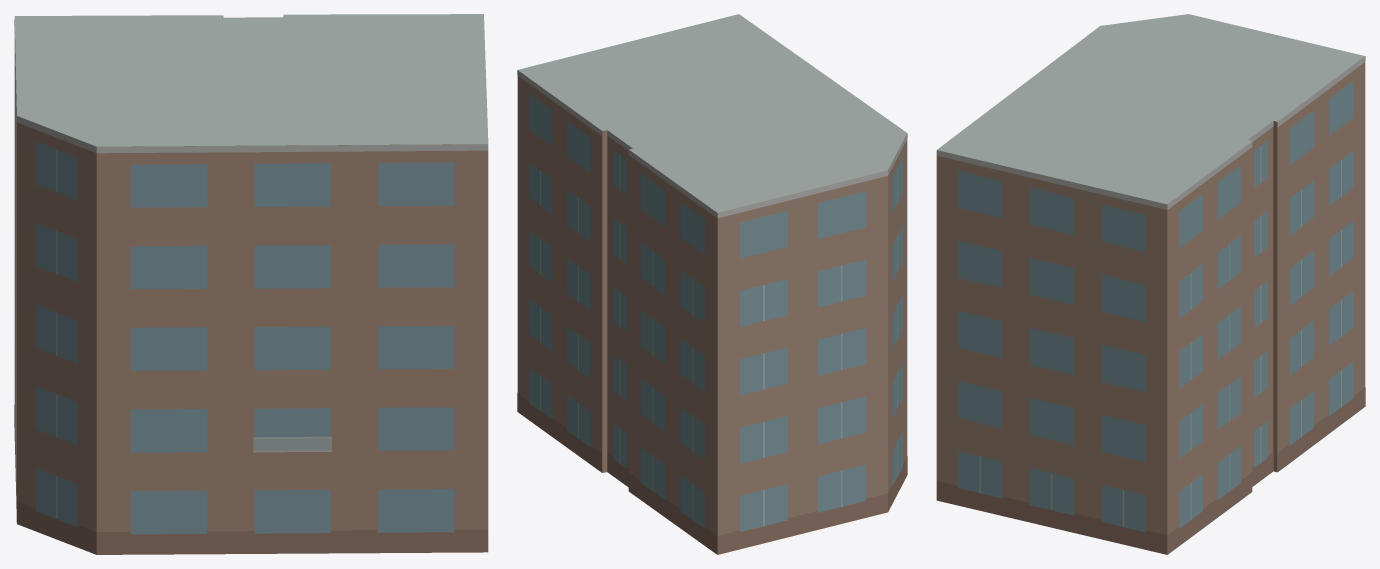
File: survey-upis-32886240.glb
The picture shows the model from 3 angles, left to right: view 1: azimuth 30°, elevation 25°; view 2: azimuth 150°, elevation 25°; view 3: azimuth 270°, elevation 25°; orthographic projection. The views are drawn at different scales.
Visible parts, largest first — view 1: survey-upis-32886240.tmp; view 2: survey-upis-32886240.tmp; view 3: survey-upis-32886240.tmp.
Boxes of the visible parts, box(x1,y1,x2,y2) form: survey-upis-32886240.tmp: box(14, 14, 488, 554); survey-upis-32886240.tmp: box(517, 14, 907, 554); survey-upis-32886240.tmp: box(936, 14, 1365, 554).
Bounding box in the file's own units: 17.78 × 15.25 × 16.92.
